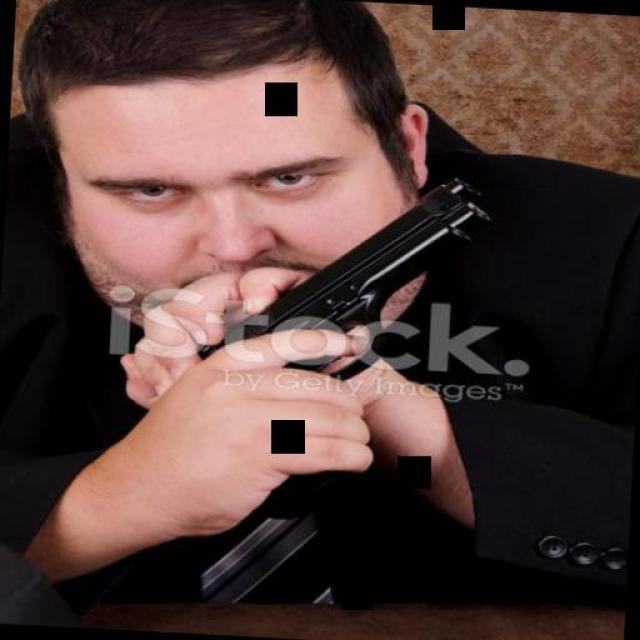gun: (175, 159, 517, 536)
